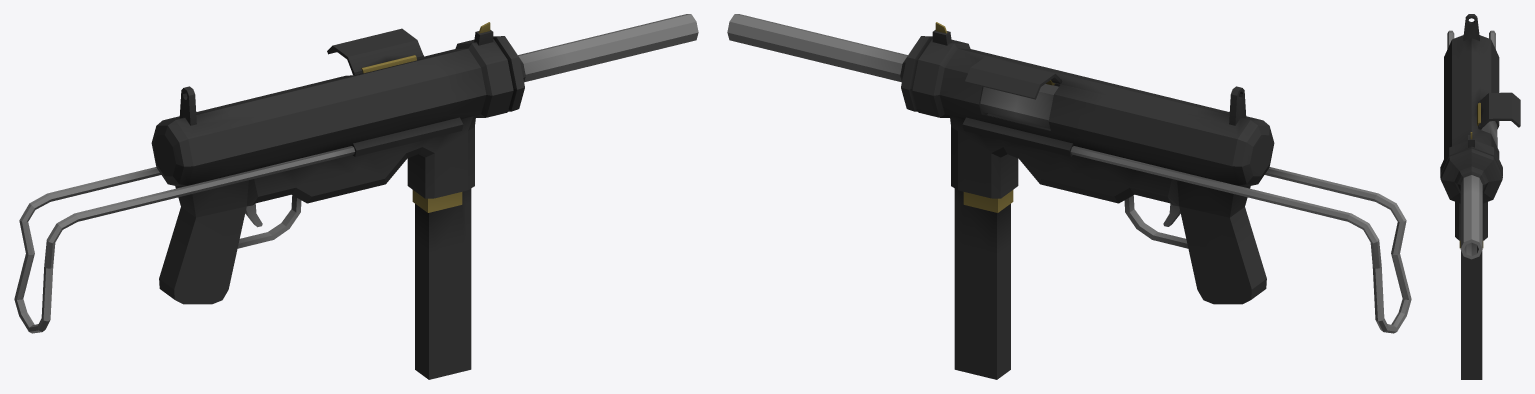
The picture shows the model from 3 angles, left to right: view 1: azimuth 30°, elevation 25°; view 2: azimuth 150°, elevation 25°; view 3: azimuth 270°, elevation 25°; orthographic projection. The views are drawn at different scales.
Visible parts, largest first — view 1: body; view 2: body; view 3: body.
Part boxes in pixels (<box>): body: <box>14,14,698,379</box>; body: <box>727,14,1411,379</box>; body: <box>1440,14,1520,379</box>.
Bounding box in the file's own units: 0.5 × 0.2476 × 0.069.
